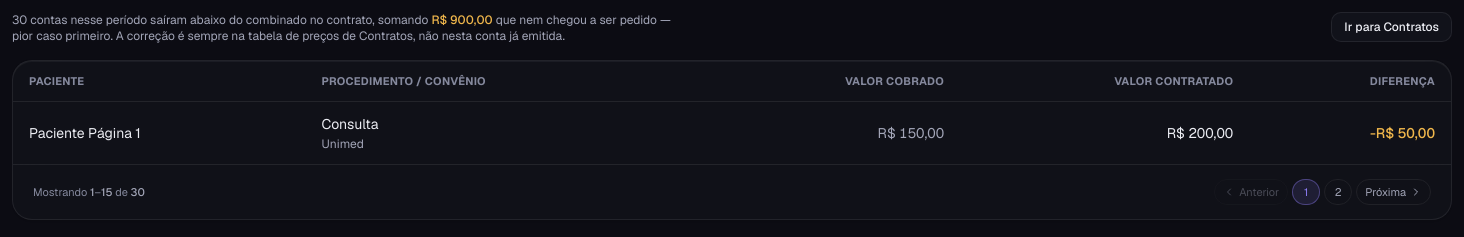
Test: FinancialHoleBillingsPanel › clicar em 'Próxima página' busca com o offset seguinte
The image size is (1464, 237).
Expected: the text "Paciente Página 1" is shown, [13,102,322,164]
Click the button with aria-label "Próxima página" at (1394, 192), box [1356,179,1431,205]
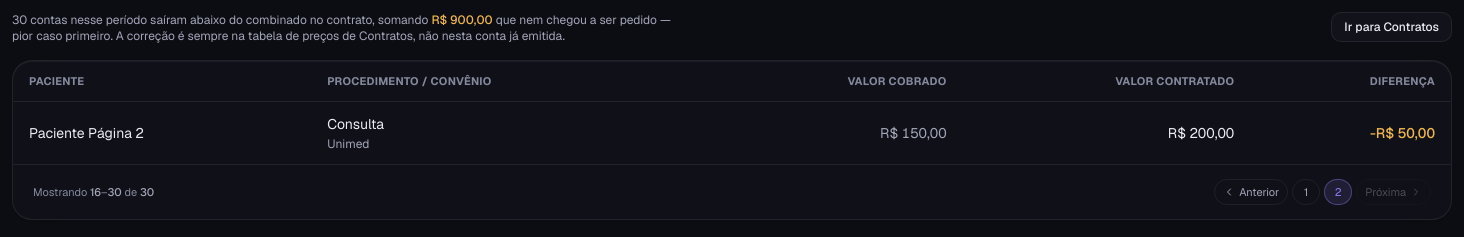
Now the text "Paciente Página 2" is shown, box [13,102,327,164]
